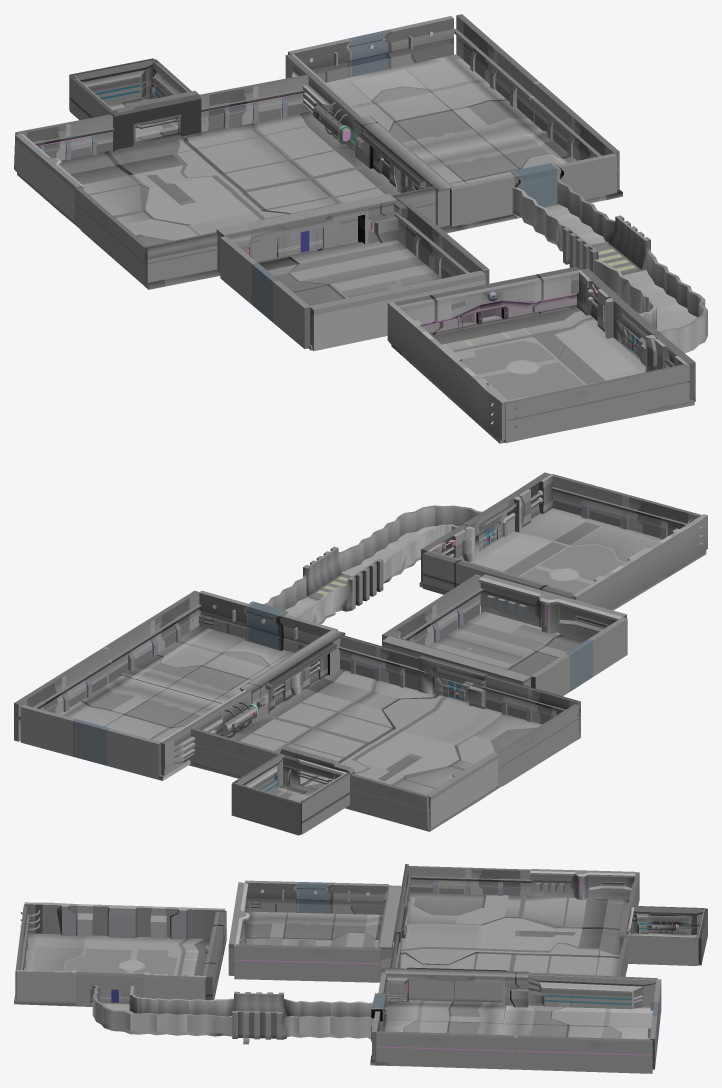
Rendered from LVL1V4.fbx.
The picture shows the model from 3 angles, top to bottom: view 1: azimuth 30°, elevation 25°; view 2: azimuth 150°, elevation 25°; view 3: azimuth 270°, elevation 25°; orthographic projection. The views are drawn at different scales.
Visible parts, largest first — view 1: polySurface162, polySurface147, polySurface136; view 2: polySurface162, polySurface147, polySurface154, polySurface155, polySurface136; view 3: polySurface162, polySurface154, polySurface155, polySurface160, polySurface147.
Boxes of the visible parts, left/top/right/bottom form: polySurface162: left=14, top=14, right=707, bottom=443; polySurface147: left=509, top=162, right=563, bottom=218; polySurface136: left=277, top=227, right=322, bottom=257; polySurface162: left=14, top=472, right=707, bottom=835; polySurface147: left=243, top=601, right=288, bottom=650; polySurface154: left=269, top=673, right=299, bottom=711; polySurface155: left=299, top=655, right=327, bottom=693; polySurface136: left=434, top=677, right=474, bottom=702; polySurface162: left=14, top=864, right=707, bottom=1073; polySurface154: left=455, top=981, right=502, bottom=1002; polySurface155: left=408, top=980, right=454, bottom=1001; polySurface160: left=99, top=989, right=129, bottom=1002; polySurface147: left=371, top=993, right=386, bottom=1041.
Bounding box in the file's own units: 7342 × 734 × 12109.
